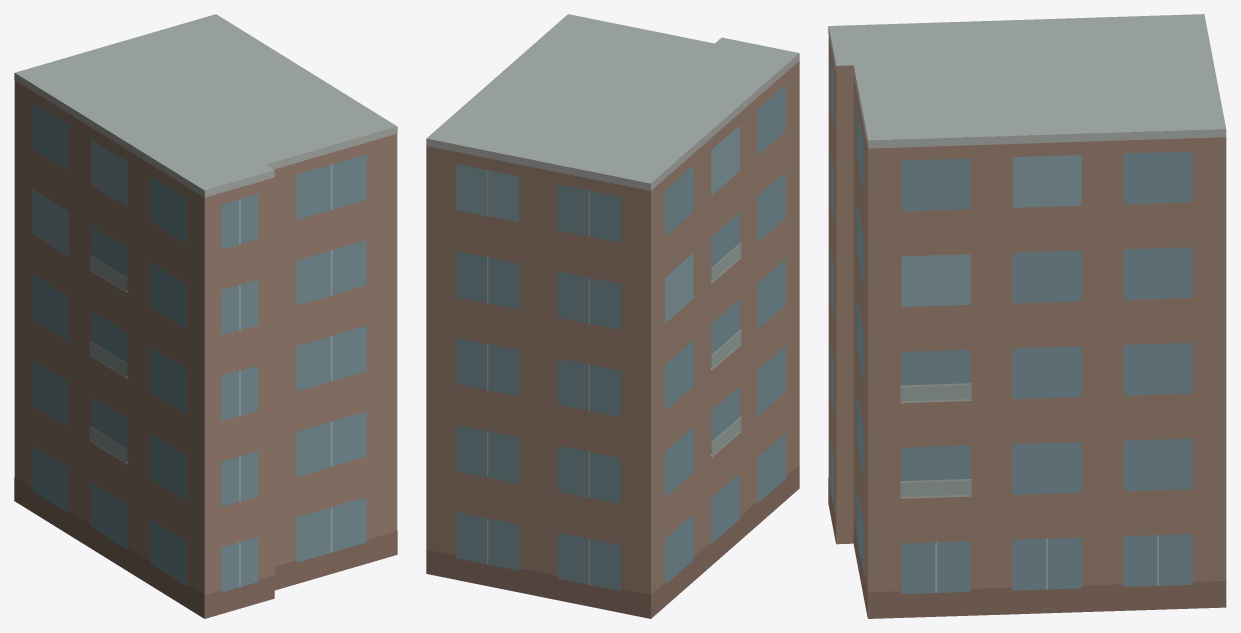
Rendered from survey-upis-32706222.glb.
3 views of the same model, side by side, from view 1: azimuth 30°, elevation 25°; view 2: azimuth 150°, elevation 25°; view 3: azimuth 270°, elevation 25° (orthographic). The views are drawn at different scales.
Visible parts, largest first — view 1: survey-upis-32706222.tmp; view 2: survey-upis-32706222.tmp; view 3: survey-upis-32706222.tmp.
Boxes of the visible parts, x1=… form: survey-upis-32706222.tmp: x1=14, y1=14, x2=397, y2=618; survey-upis-32706222.tmp: x1=426, y1=14, x2=799, y2=618; survey-upis-32706222.tmp: x1=828, y1=14, x2=1226, y2=618.
Bounding box in the file's own units: 8.24 × 14.5 × 10.94.
